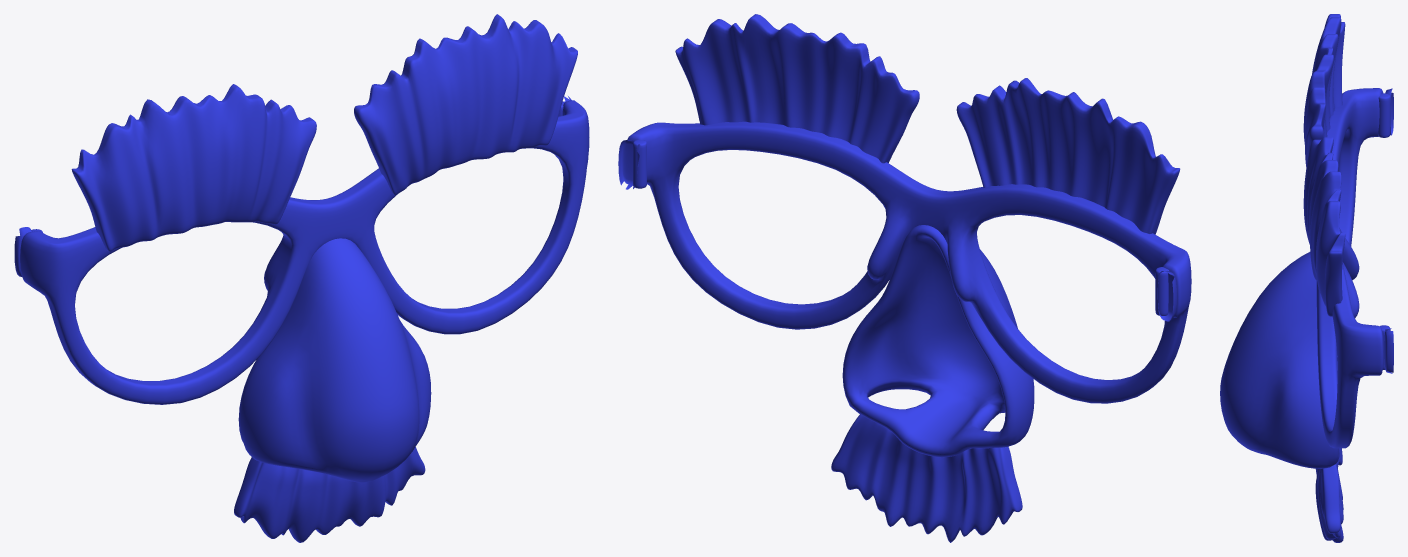
Rendered from Groucho.glb.
The picture shows the model from 3 angles, left to right: view 1: azimuth 30°, elevation 25°; view 2: azimuth 150°, elevation 25°; view 3: azimuth 270°, elevation 25°; orthographic projection. The views are drawn at different scales.
Parts seen in each view (by area): view 1: 17891_Groucho_Glasses_v1; view 2: 17891_Groucho_Glasses_v1; view 3: 17891_Groucho_Glasses_v1.
Part boxes in pixels (left/top/right/bottom): 17891_Groucho_Glasses_v1: left=14, top=14, right=589, bottom=542; 17891_Groucho_Glasses_v1: left=618, top=14, right=1191, bottom=542; 17891_Groucho_Glasses_v1: left=1220, top=14, right=1393, bottom=542.
Size of the model in its own units: 21.72 by 17.78 by 6.45.
